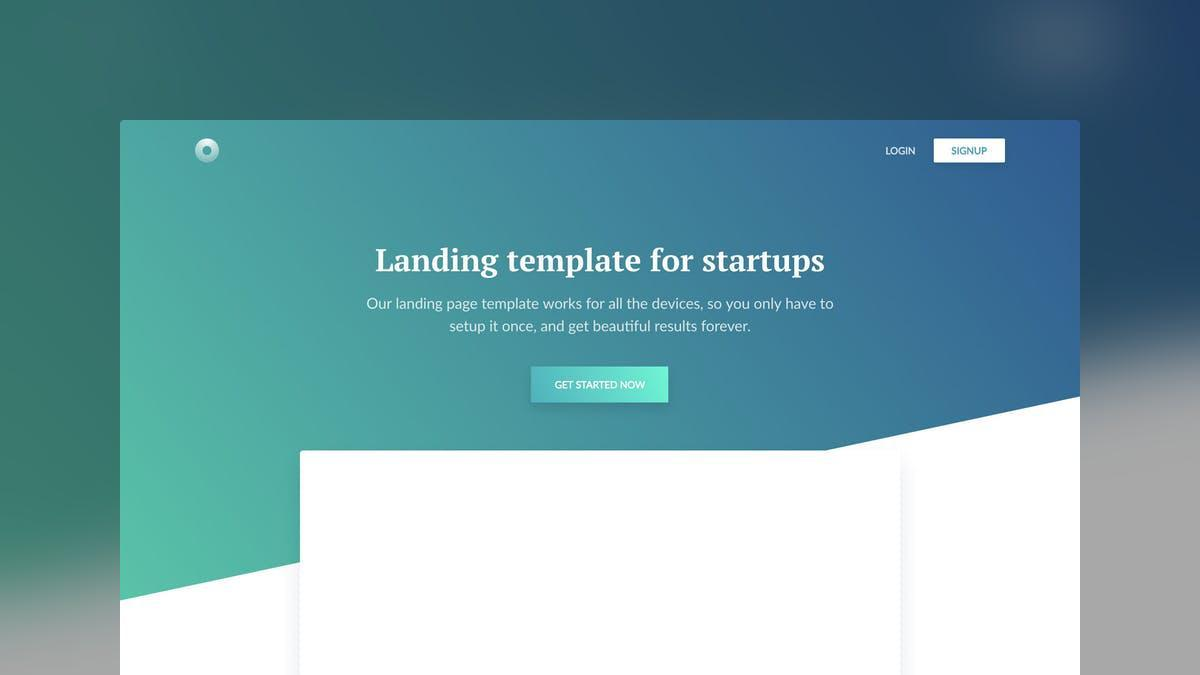button: (531, 367, 672, 405), (934, 138, 1008, 165)
label: (367, 295, 838, 335), (371, 242, 830, 278), (886, 144, 918, 157)
